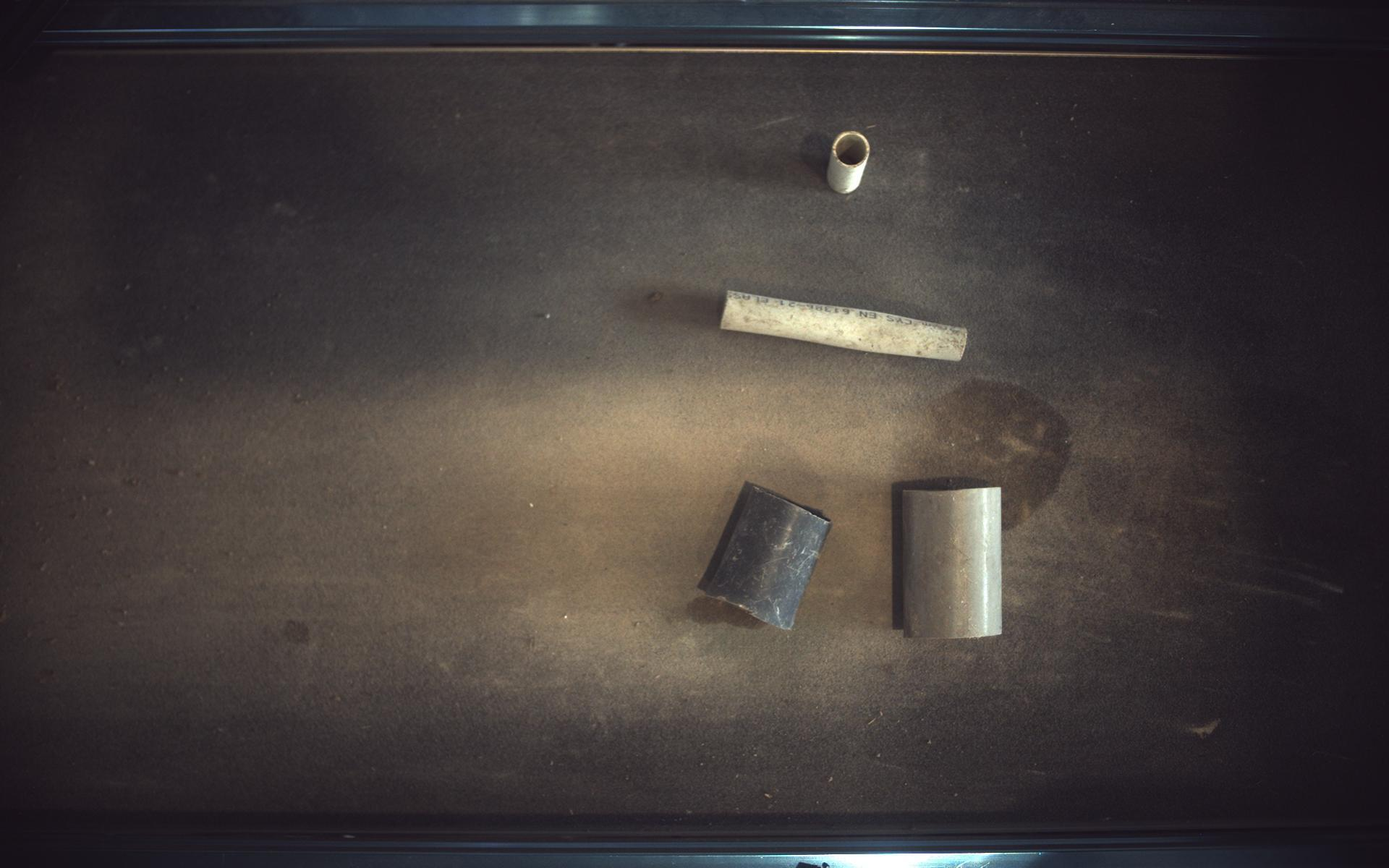pipes: (700, 482, 833, 630), (895, 477, 1004, 639), (722, 290, 969, 361), (828, 130, 872, 193)
